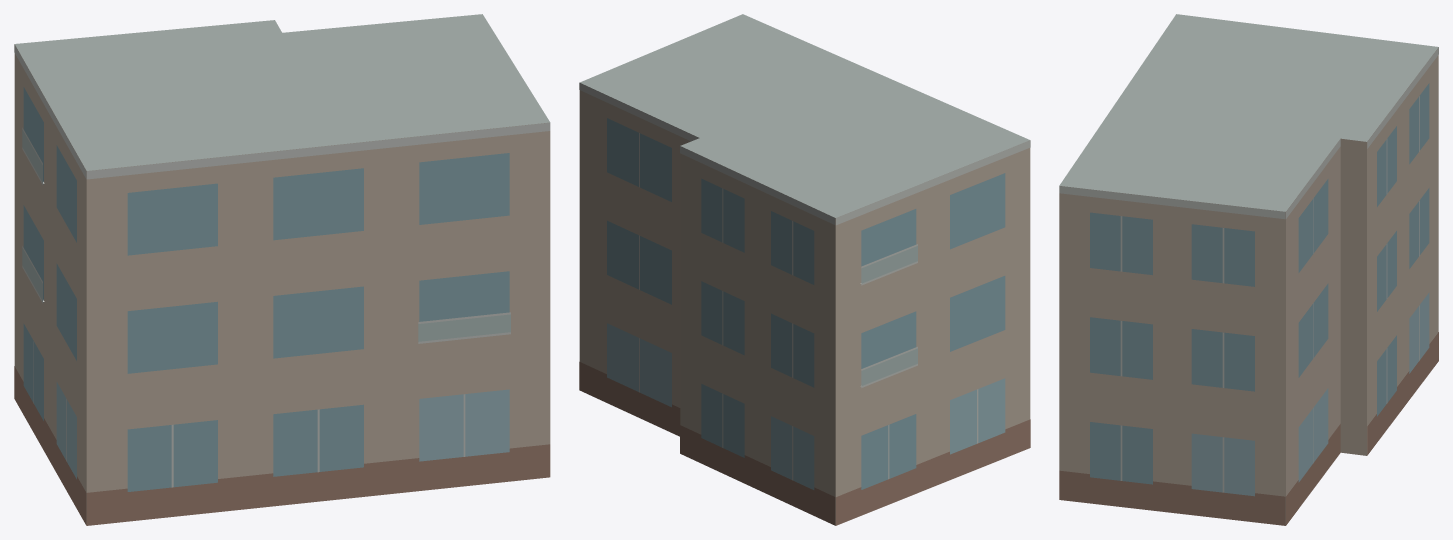
The model's file is survey-upis-32922069.glb.
The picture shows the model from 3 angles, left to right: view 1: azimuth 30°, elevation 25°; view 2: azimuth 150°, elevation 25°; view 3: azimuth 270°, elevation 25°; orthographic projection. The views are drawn at different scales.
Visible parts, largest first — view 1: survey-upis-32922069.tmp; view 2: survey-upis-32922069.tmp; view 3: survey-upis-32922069.tmp.
Part boxes in pixels (bbox=[...]): survey-upis-32922069.tmp: bbox=[14, 14, 550, 525]; survey-upis-32922069.tmp: bbox=[579, 14, 1030, 525]; survey-upis-32922069.tmp: bbox=[1059, 14, 1438, 525].
Size of the model in its own units: 13.79 by 10.2 by 11.18.
